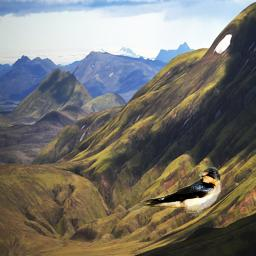Swallow: (128, 167, 222, 216)
